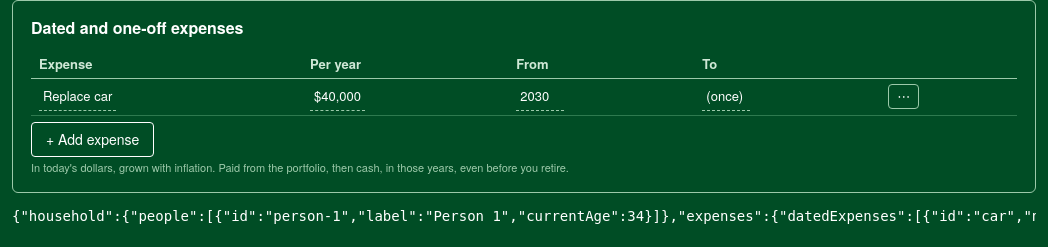
Test: DatedExpensesSection › edits the amount, and clearing it goes back to $0
Click the button named "Per year for Replace car".
click(338, 97)  # box [310,83,365,111]
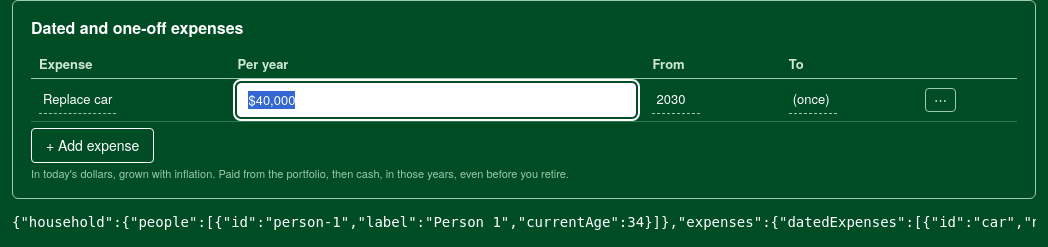
Type keys "35000{Enter}"
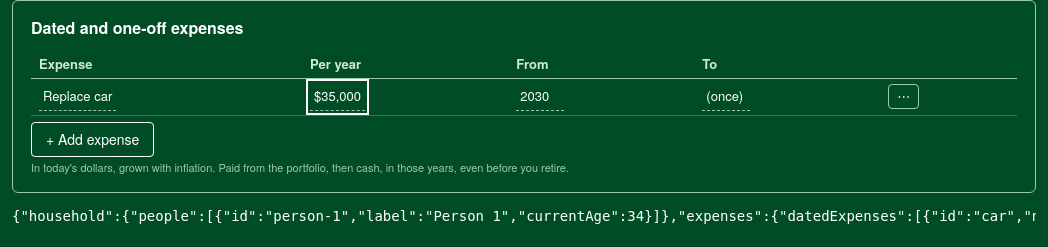
Click the button named "Per year for Replace car".
click(338, 97)  # box [310,83,365,111]
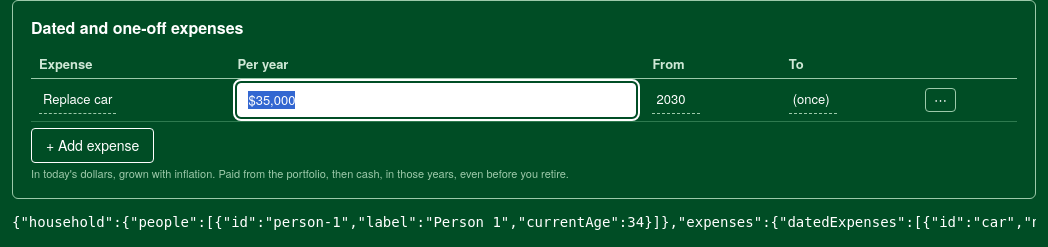
Clear the field named "Amount per year for Replace car" at point(437, 100), box [248,91,625,109]
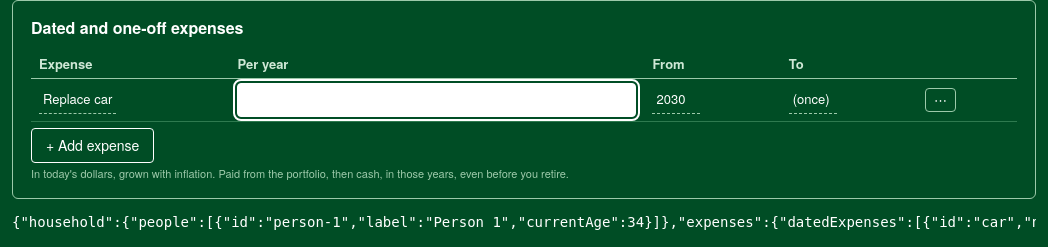
Press Enter
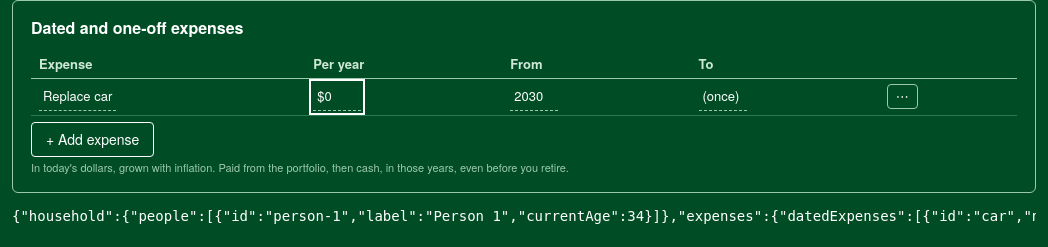
Check: the button named "Per year for Replace car" reads "$0", box [313,83,361,111]
